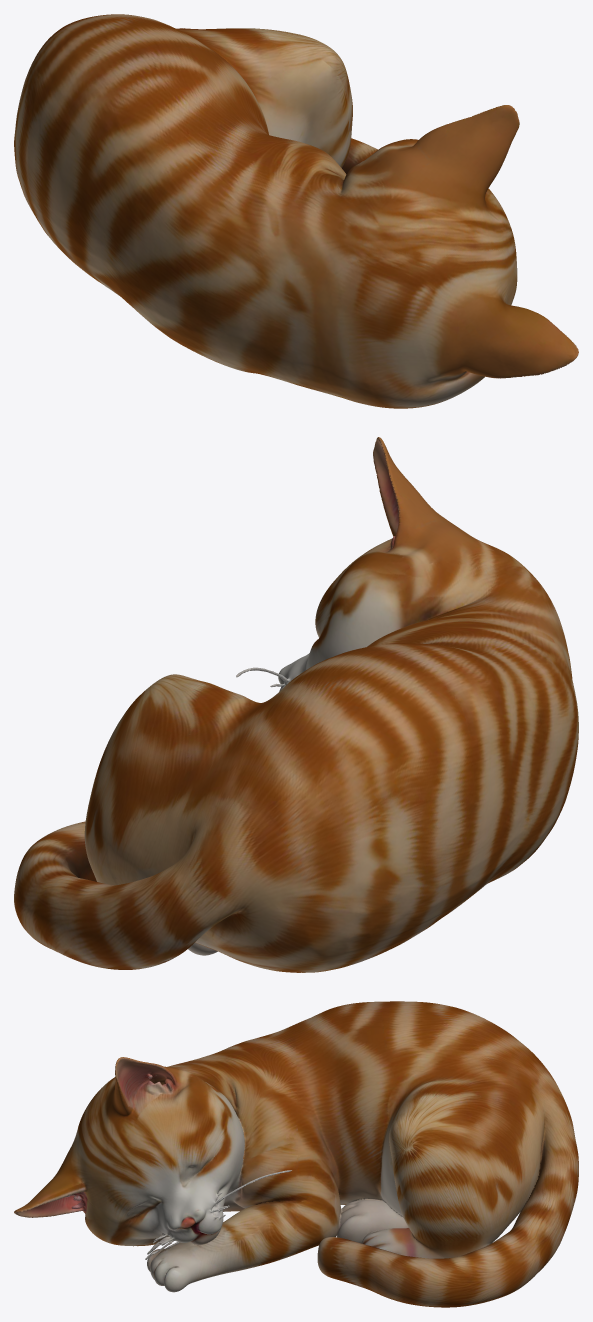
File: detailed_realistic_model_sleeping_01.glb
3 renders of one model, top to bottom at view 1: azimuth 30°, elevation 25°; view 2: azimuth 150°, elevation 25°; view 3: azimuth 270°, elevation 25°, orthographic. The views are drawn at different scales.
Parts seen in each view (by area): view 1: tripo_node_93469f92-2d22-45fd-8f8e-d778c119adce; view 2: tripo_node_93469f92-2d22-45fd-8f8e-d778c119adce; view 3: tripo_node_93469f92-2d22-45fd-8f8e-d778c119adce.
Part boxes in pixels (x1,y1,x2,y2): tripo_node_93469f92-2d22-45fd-8f8e-d778c119adce: [14, 14, 578, 408]; tripo_node_93469f92-2d22-45fd-8f8e-d778c119adce: [14, 437, 578, 972]; tripo_node_93469f92-2d22-45fd-8f8e-d778c119adce: [14, 1001, 578, 1307].
Size of the model in its own units: 0.5909 by 0.4267 by 1.
Materials: 1 (1 with a texture image).
